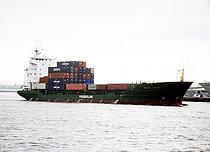Ship: (14, 45, 197, 111)
